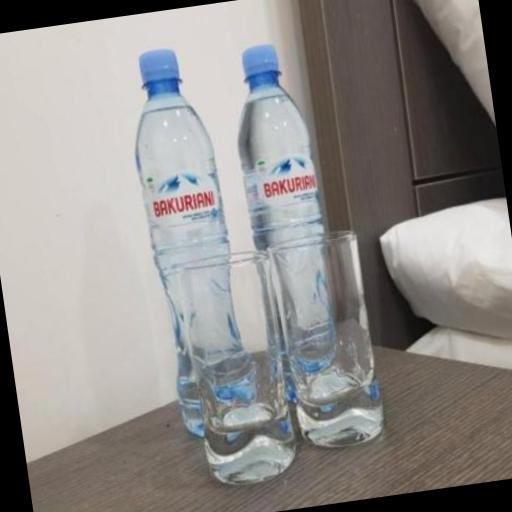Coca: (114, 36, 268, 446), (218, 26, 356, 412)
